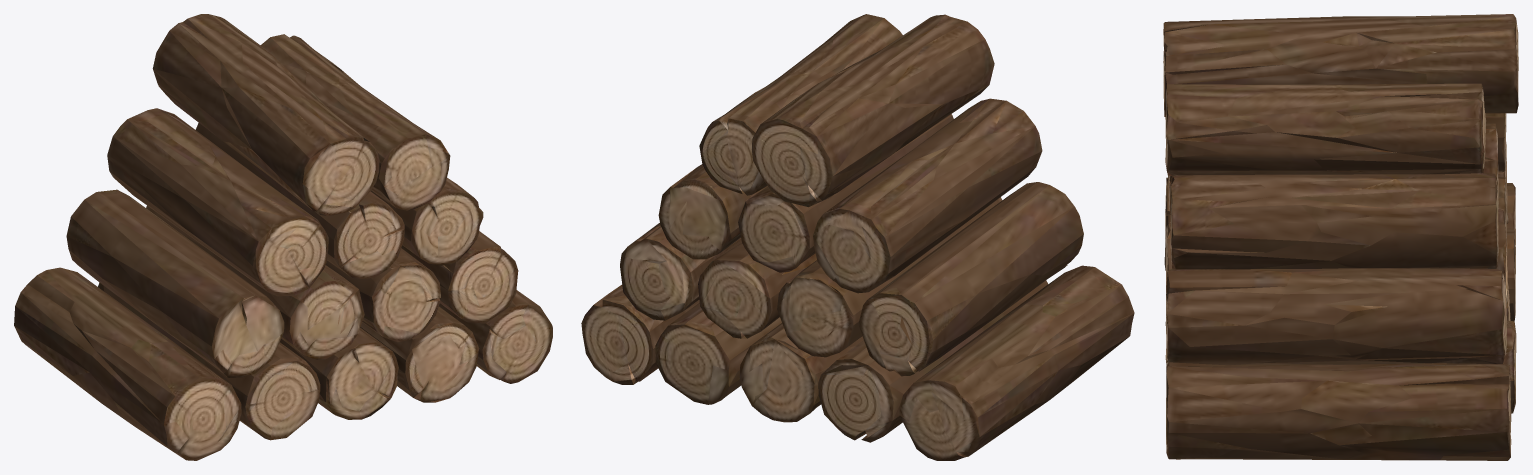
The model's file is woodpile_3d.glb.
The picture shows the model from 3 angles, left to right: view 1: azimuth 30°, elevation 25°; view 2: azimuth 150°, elevation 25°; view 3: azimuth 270°, elevation 25°; orthographic projection. The views are drawn at different scales.
Parts seen in each view (by area): view 1: Mesh_0; view 2: Mesh_0; view 3: Mesh_0.
Boxes of the visible parts, box(x1,y1,x2,y2) form: Mesh_0: box(14, 14, 552, 460); Mesh_0: box(581, 14, 1134, 460); Mesh_0: box(1163, 14, 1518, 460).
Bounding box in the file's own units: 1.11 × 0.8125 × 0.7653.
Materials: 1 (1 with a texture image).
